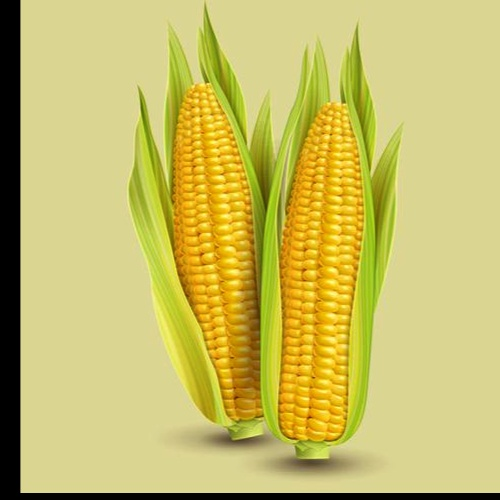corn: (159, 44, 279, 445), (264, 68, 379, 457)
